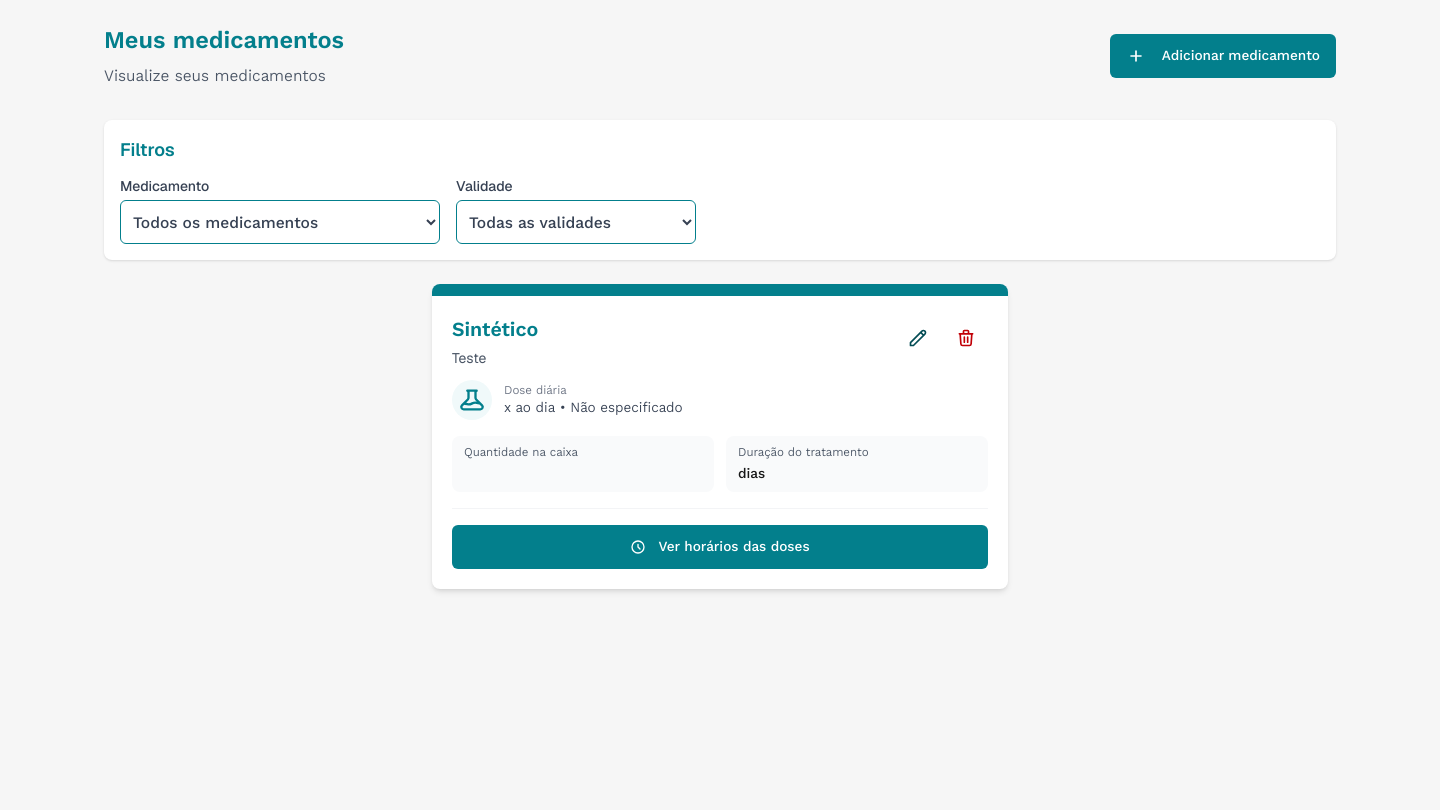
Scenario: NET-13 NET-14 medicamentos › ERR-01 NET-14 DELETE403 mantém lista e recupera controle
Expected: the heading "Sintético" is shown, [452,318,538,341]
Click the button named "Excluir medicamento" at (966, 338), box [944,316,988,360]
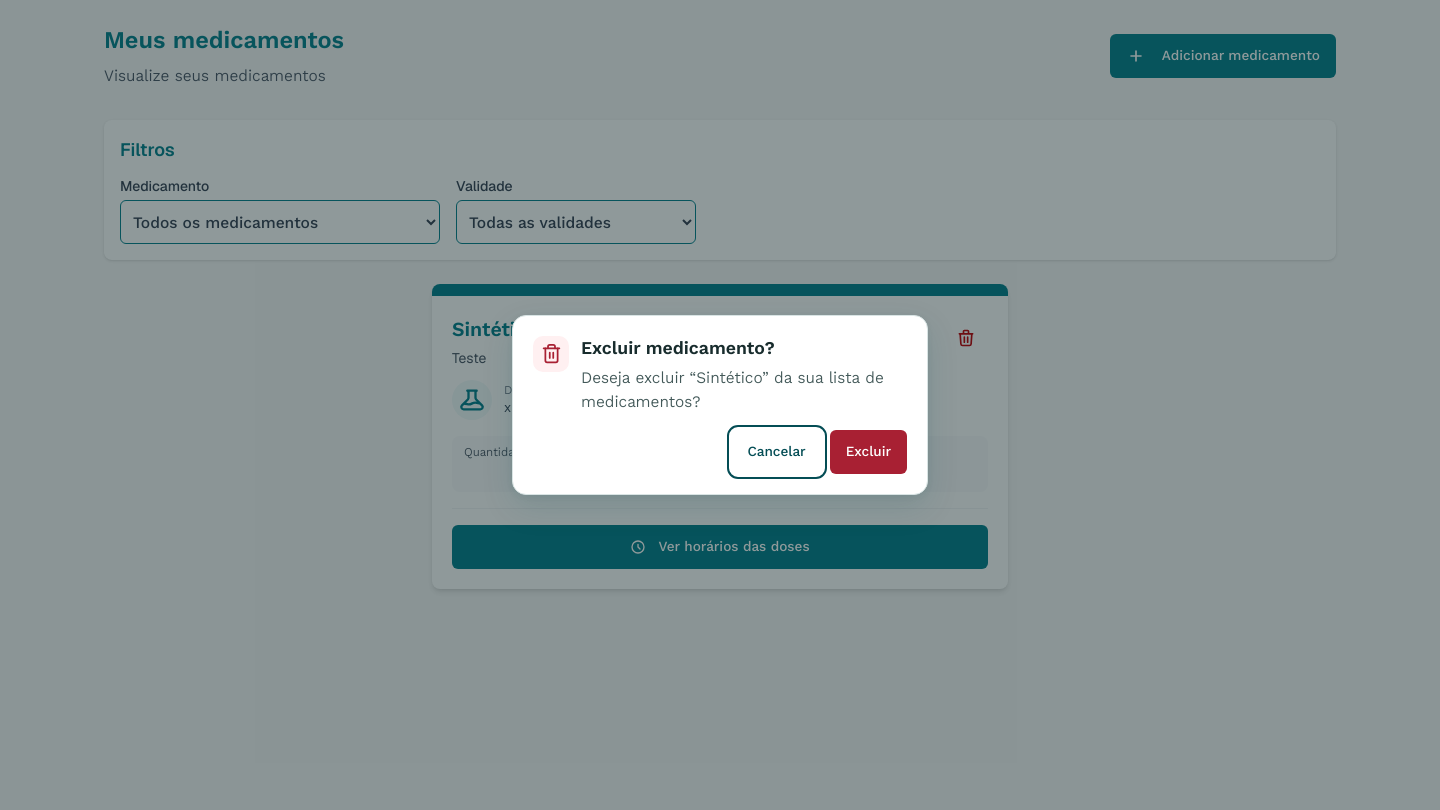
Expected: the text "Deseja excluir “Sintético” da sua lista de medicamentos?" is shown, [581,366,907,414]
Click the button "Excluir" at (868, 452), box [830,430,907,474]
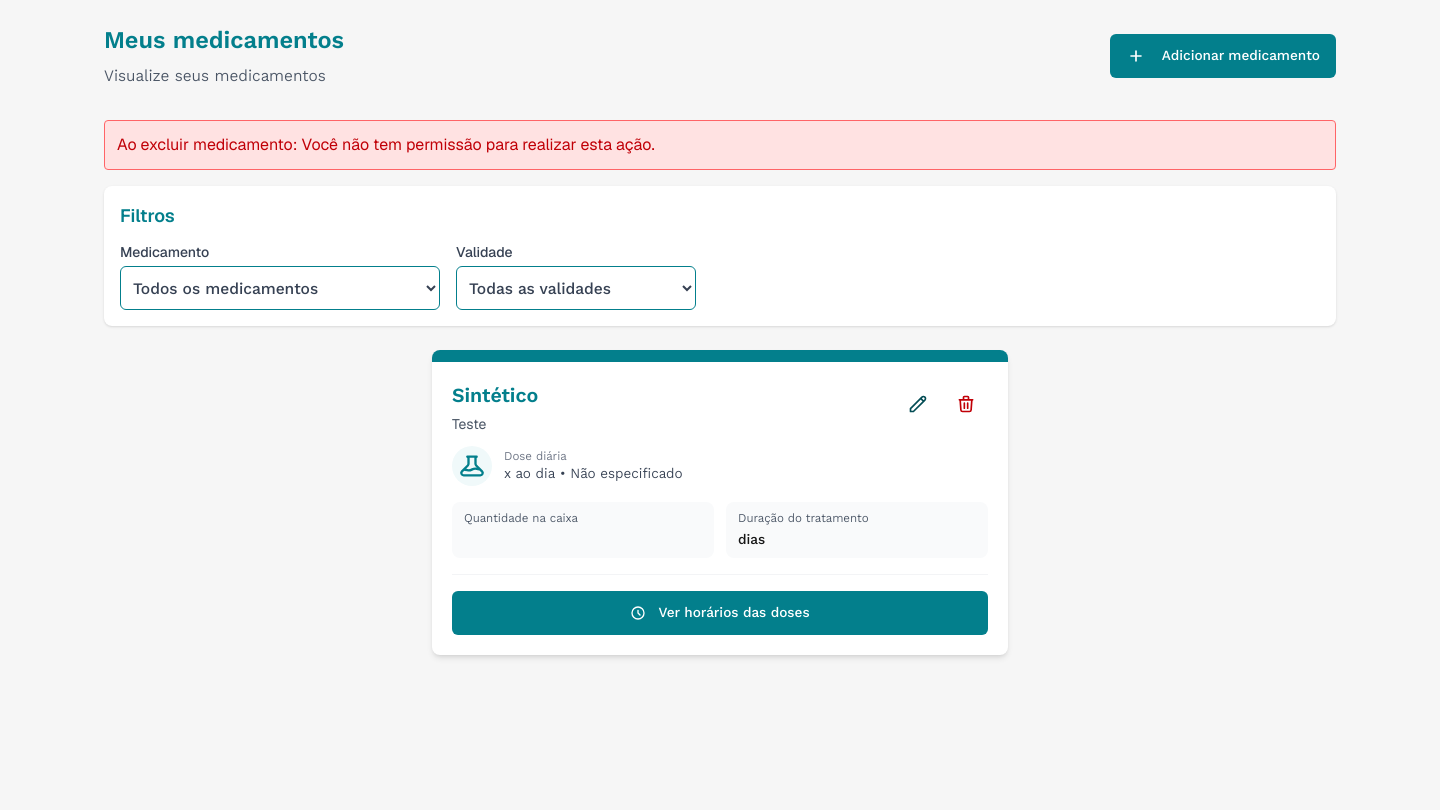
Expected: the heading "Sintético" is shown, [452,384,538,407]
Expected: the message shows "Ao excluir medicamento:", [117,134,302,155]
Expected: the dialog is gone
